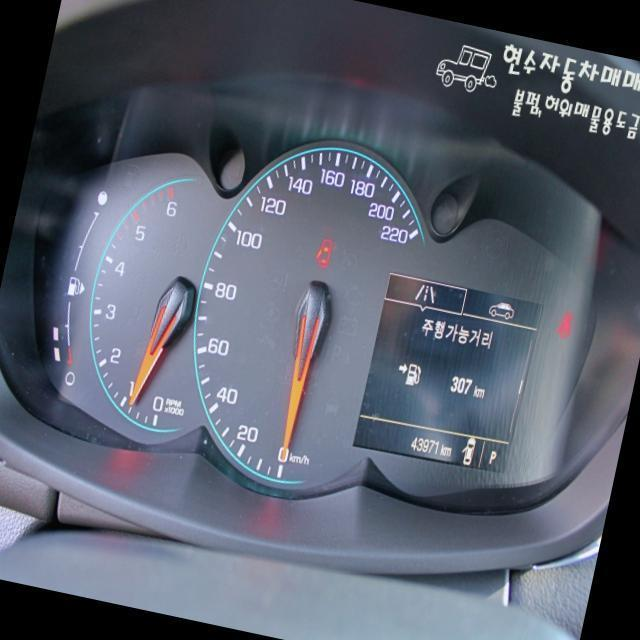Doors: (313, 235, 334, 268)
